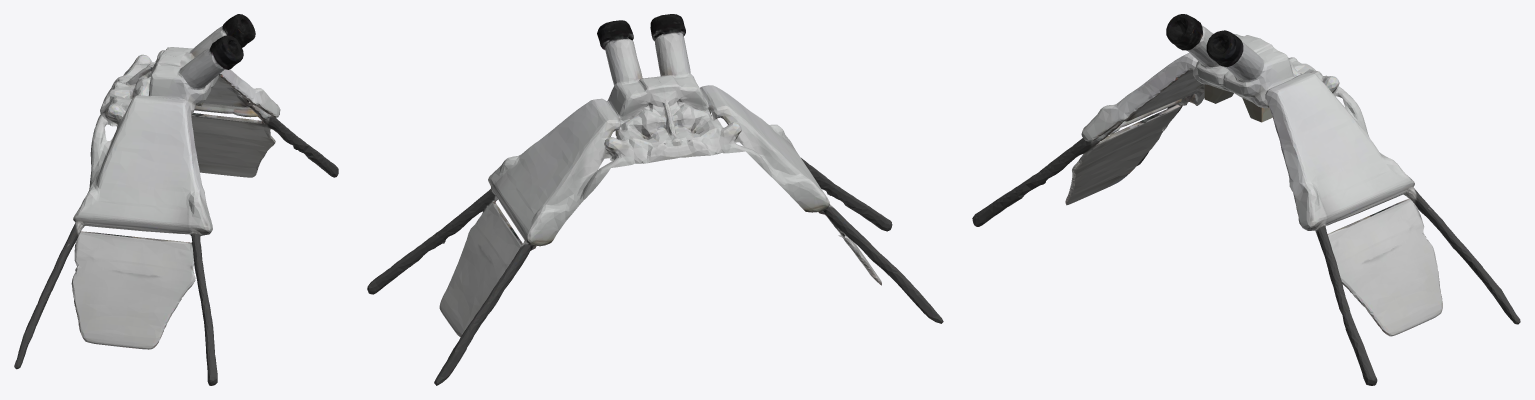
3 renders of one model, left to right at view 1: azimuth 30°, elevation 25°; view 2: azimuth 150°, elevation 25°; view 3: azimuth 270°, elevation 25°, orthographic. The views are drawn at different scales.
Visible parts, largest first — view 1: textured_mesh.obj; view 2: textured_mesh.obj; view 3: textured_mesh.obj.
Part boxes in pixels (left/top/right/bottom): textured_mesh.obj: left=14, top=14, right=338, bottom=385; textured_mesh.obj: left=367, top=14, right=943, bottom=385; textured_mesh.obj: left=972, top=14, right=1520, bottom=385.
Size of the model in its own units: 1.74 by 0.9807 by 1.77.
1 material, 1 textured.
